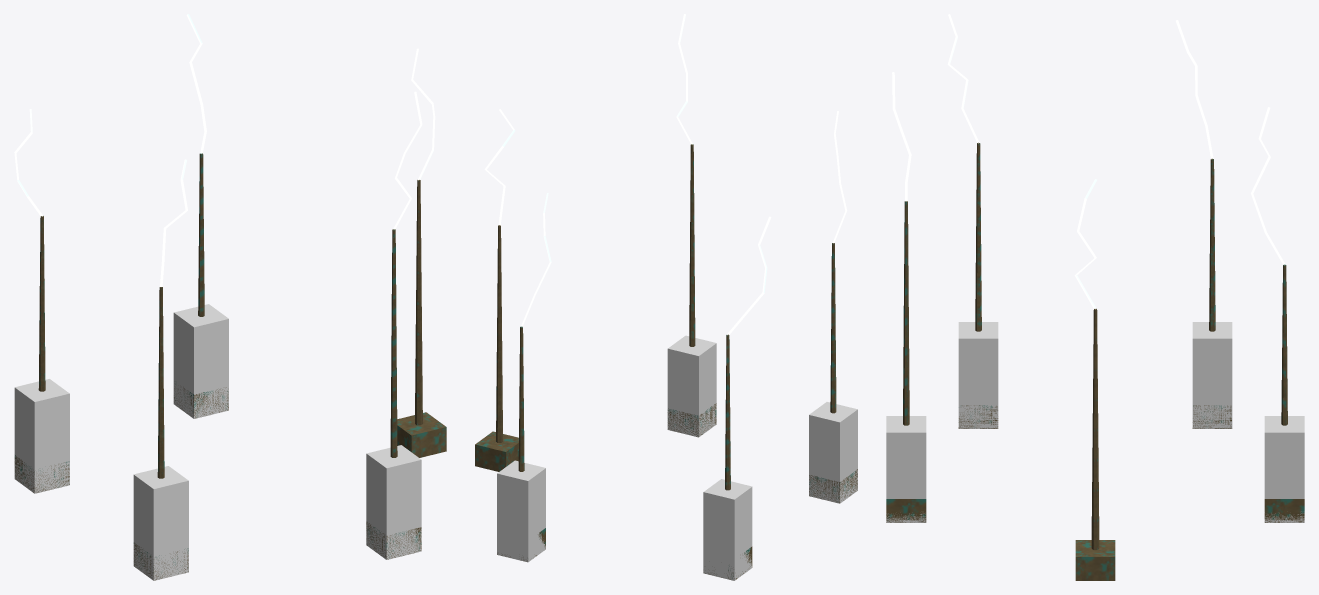
File: thunder_rods.glb
3 renders of one model, left to right at view 1: azimuth 30°, elevation 25°; view 2: azimuth 150°, elevation 25°; view 3: azimuth 270°, elevation 25°, orthographic. The views are drawn at different scales.
Visible parts, largest first — view 1: Rods, Rod-convcolonly.001, Rod-convcolonly.003, Rod-convcolonly.004, Rod-convcolonly.002, Bolts; view 2: Rods, Rod-convcolonly.004, Rod-convcolonly.002, Rod-convcolonly.003, Rod-convcolonly.001, Bolts; view 3: Rods, Rod-convcolonly.002, Rod-convcolonly.003, Rod-convcolonly.001, Rod-convcolonly.004, Bolts.
Part boxes in pixels (x1,y1,x2,y2): Rods: [14, 153, 446, 580]; Rod-convcolonly.001: [173, 304, 228, 418]; Rod-convcolonly.003: [133, 466, 188, 580]; Rod-convcolonly.004: [366, 445, 421, 559]; Rod-convcolonly.002: [14, 379, 69, 493]; Bolts: [14, 14, 435, 286]; Rods: [475, 144, 857, 580]; Rod-convcolonly.004: [667, 335, 716, 437]; Rod-convcolonly.002: [703, 479, 752, 580]; Rod-convcolonly.003: [809, 402, 857, 503]; Rod-convcolonly.001: [497, 460, 545, 562]; Bolts: [484, 14, 847, 334]; Rods: [886, 142, 1304, 580]; Rod-convcolonly.002: [1192, 322, 1232, 428]; Rod-convcolonly.003: [958, 322, 998, 428]; Rod-convcolonly.001: [1264, 416, 1304, 522]; Rod-convcolonly.004: [886, 416, 926, 522]; Bolts: [892, 14, 1285, 309].
Size of what is drawn, in the model's own units: 12.69 by 14.96 by 12.61.
Materials: 2 (1 with a texture image).
